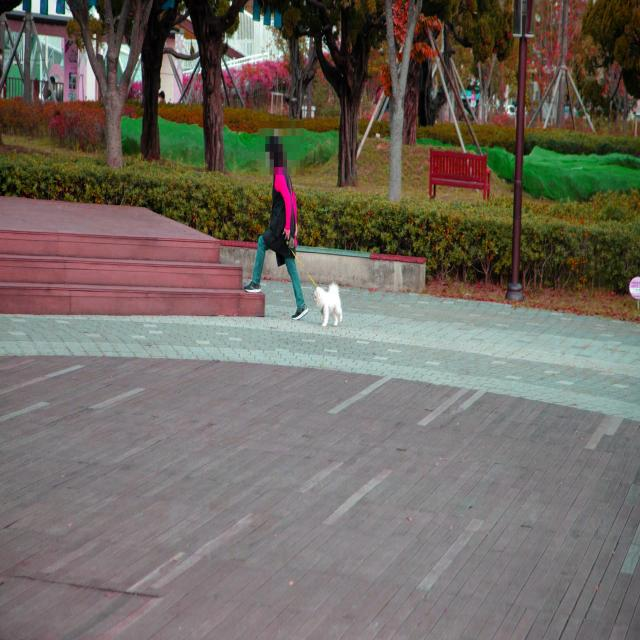Leashed_Dog: (283, 231, 343, 327)
